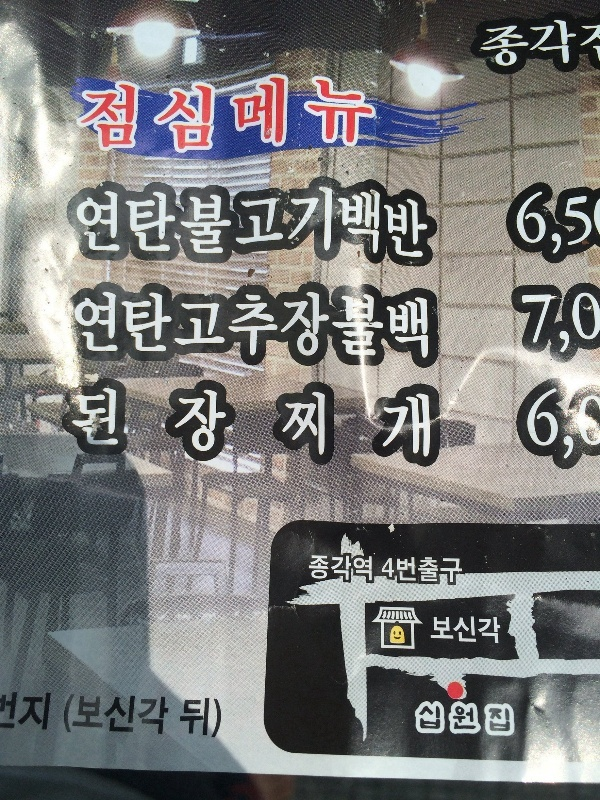text: (81, 177, 96, 270), (97, 177, 112, 270), (113, 177, 128, 270), (129, 177, 144, 270), (145, 177, 160, 270), (161, 177, 176, 270), (177, 177, 192, 270), (193, 177, 208, 270), (209, 177, 224, 270), (225, 177, 240, 270), (241, 177, 256, 270), (257, 177, 272, 270), (273, 177, 288, 270), (289, 177, 304, 270), (305, 177, 320, 270), (321, 177, 336, 270), (337, 177, 352, 270), (353, 177, 368, 270), (369, 177, 384, 270), (385, 177, 400, 270), (401, 177, 416, 270), (417, 177, 432, 270), (513, 182, 528, 273), (529, 182, 544, 273), (545, 182, 560, 273), (561, 182, 576, 273), (577, 182, 592, 273), (81, 383, 96, 469), (97, 383, 112, 469), (113, 383, 128, 469), (129, 383, 144, 469), (145, 383, 160, 469), (161, 383, 176, 469), (177, 383, 192, 469), (193, 383, 208, 469), (209, 383, 224, 469), (225, 383, 240, 469), (241, 383, 256, 469), (257, 383, 272, 469), (273, 383, 288, 469), (289, 383, 304, 469), (305, 383, 320, 469), (321, 383, 336, 469), (337, 383, 352, 469), (353, 383, 368, 469), (369, 383, 384, 469), (385, 383, 400, 469), (401, 383, 416, 469), (417, 383, 432, 469), (81, 72, 96, 157), (97, 72, 112, 157), (113, 72, 128, 157), (129, 72, 144, 157), (145, 72, 160, 157), (161, 72, 176, 157), (177, 72, 192, 157), (193, 72, 208, 157), (209, 72, 224, 157), (225, 72, 240, 157), (241, 72, 256, 157), (257, 72, 272, 157), (273, 72, 288, 157), (289, 72, 304, 157), (305, 72, 320, 157), (321, 72, 336, 157), (337, 72, 352, 157), (353, 72, 368, 157), (81, 288, 96, 367), (97, 288, 112, 367), (113, 288, 128, 367), (129, 288, 144, 367), (145, 288, 160, 367), (161, 288, 176, 367), (177, 288, 192, 367), (193, 288, 208, 367), (209, 288, 224, 367), (225, 288, 240, 367), (241, 288, 256, 367), (257, 288, 272, 367), (273, 288, 288, 367), (289, 288, 304, 367), (305, 288, 320, 367), (321, 288, 336, 367), (337, 288, 352, 367), (353, 288, 368, 367), (369, 288, 384, 367), (385, 288, 400, 367), (401, 288, 416, 367), (417, 288, 432, 367), (545, 386, 560, 465), (561, 386, 576, 465), (577, 386, 592, 465), (67, 383, 80, 469), (369, 72, 382, 157), (69, 177, 80, 270), (529, 291, 544, 359), (545, 291, 560, 359), (561, 291, 576, 359), (577, 291, 592, 359), (532, 386, 544, 465), (497, 17, 512, 70), (513, 17, 528, 70), (529, 17, 544, 70), (545, 17, 560, 70), (561, 17, 576, 70), (433, 383, 442, 469), (65, 694, 80, 744), (81, 694, 96, 744), (97, 694, 112, 744), (113, 694, 128, 744), (129, 694, 144, 744), (145, 694, 160, 744), (161, 694, 176, 744), (177, 694, 192, 744), (193, 694, 208, 744), (209, 694, 223, 744), (433, 177, 440, 270), (33, 693, 48, 736), (505, 182, 512, 273), (484, 17, 496, 70), (433, 288, 441, 367), (1, 691, 16, 731), (73, 288, 80, 367), (593, 386, 600, 465), (520, 291, 528, 359), (321, 550, 336, 586), (337, 550, 352, 586), (353, 550, 368, 586), (401, 555, 416, 588), (417, 555, 432, 588), (433, 555, 448, 588), (449, 555, 464, 588), (433, 613, 448, 645), (449, 613, 464, 645), (465, 613, 480, 645), (481, 613, 496, 645), (433, 704, 448, 736), (449, 704, 464, 736), (465, 704, 480, 736), (481, 704, 496, 736), (593, 291, 600, 359), (386, 555, 400, 588), (497, 704, 511, 736), (22, 693, 32, 736), (309, 550, 320, 586), (420, 704, 432, 736), (577, 17, 581, 70), (497, 613, 503, 645), (369, 550, 373, 586), (49, 693, 52, 736), (593, 182, 594, 273), (79, 72, 80, 157), (17, 691, 18, 731), (431, 613, 432, 645)
